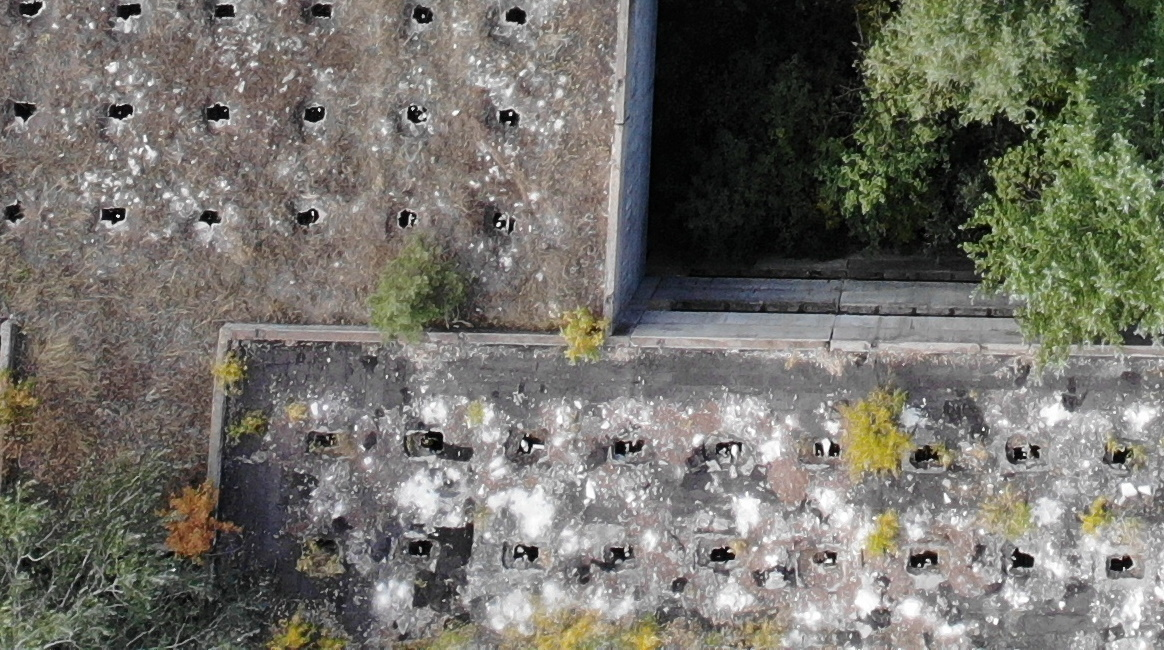tree: (365, 227, 470, 337), (833, 374, 926, 491), (166, 489, 241, 559), (856, 505, 917, 570), (977, 481, 1037, 545), (547, 308, 605, 373), (212, 345, 252, 387), (1087, 493, 1115, 546)
